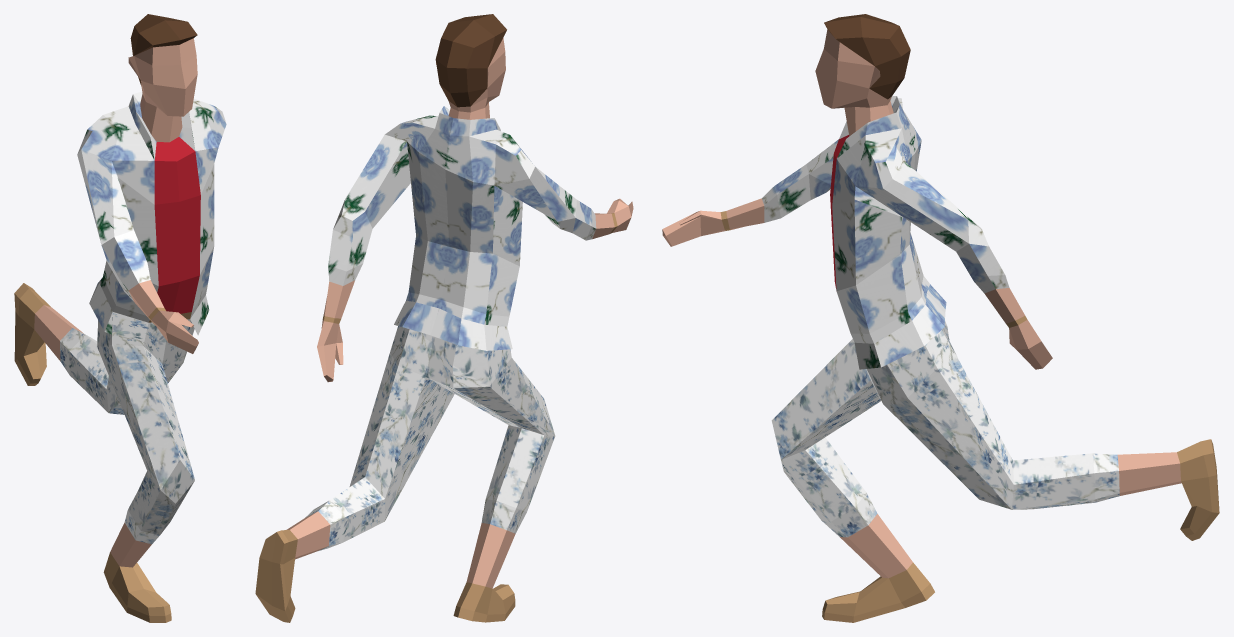
Rendered from SpringManC.005.glb.
3 renders of one model, left to right at view 1: azimuth 30°, elevation 25°; view 2: azimuth 150°, elevation 25°; view 3: azimuth 270°, elevation 25°, orthographic. The views are drawn at different scales.
Visible parts, largest first — view 1: SpringManC.006; view 2: SpringManC.006; view 3: SpringManC.006.
Boxes of the visible parts, <box> form: SpringManC.006: <box>14,14,226,622</box>; SpringManC.006: <box>255,14,633,622</box>; SpringManC.006: <box>662,14,1219,622</box>.
Size of the model in its own units: 0.4589 by 1.57 by 1.29.
Materials: 1 (1 with a texture image).
